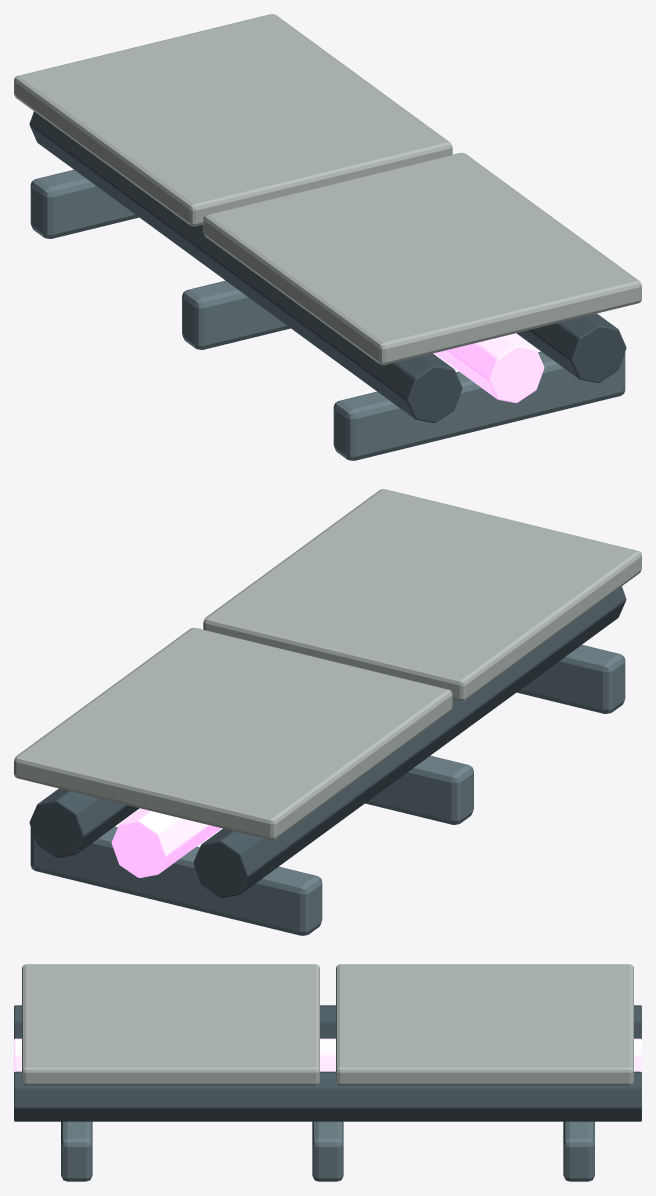
File: utility_conduit_d0.glb
3 renders of one model, top to bottom at view 1: azimuth 30°, elevation 25°; view 2: azimuth 150°, elevation 25°; view 3: azimuth 270°, elevation 25°, orthographic. The views are drawn at different scales.
Parts seen in each view (by area): view 1: Removable conduit cover, Removable conduit cover.001, Service pipe, Duct saddle, Duct saddle.002, Duct saddle.001, Service pipe.002, Service pipe.001; view 2: Removable conduit cover.001, Removable conduit cover, Service pipe, Duct saddle.002, Duct saddle, Duct saddle.001, Service pipe.002, Service pipe.001; view 3: Removable conduit cover, Removable conduit cover.001, Service pipe.002, Duct saddle, Duct saddle.001, Duct saddle.002, Service pipe, Service pipe.001.
Part boxes in pixels (<box>): Removable conduit cover: <box>203,153,641,365</box>; Removable conduit cover.001: <box>14,14,452,226</box>; Service pipe: <box>29,111,462,422</box>; Duct saddle: <box>333,351,625,460</box>; Duct saddle.002: <box>30,170,138,238</box>; Duct saddle.001: <box>182,280,290,349</box>; Service pipe.002: <box>516,313,626,382</box>; Service pipe.001: <box>434,333,544,402</box>; Removable conduit cover.001: <box>14,628,452,840</box>; Removable conduit cover: <box>203,489,641,701</box>; Service pipe: <box>193,586,626,897</box>; Duct saddle.002: <box>30,826,322,935</box>; Duct saddle: <box>517,645,625,713</box>; Duct saddle.001: <box>365,755,473,824</box>; Service pipe.002: <box>29,788,139,857</box>; Service pipe.001: <box>111,808,221,877</box>; Removable conduit cover: <box>22,964,319,1085</box>; Removable conduit cover.001: <box>336,964,633,1085</box>; Service pipe.002: <box>14,1071,641,1121</box>; Duct saddle: <box>61,1121,92,1181</box>; Duct saddle.001: <box>312,1121,343,1181</box>; Duct saddle.002: <box>563,1121,594,1181</box>; Service pipe: <box>14,1005,641,1039</box>; Service pipe.001: <box>14,1038,641,1072</box>.
Bounding box in the file's own units: 1.7 × 0.785 × 4.
